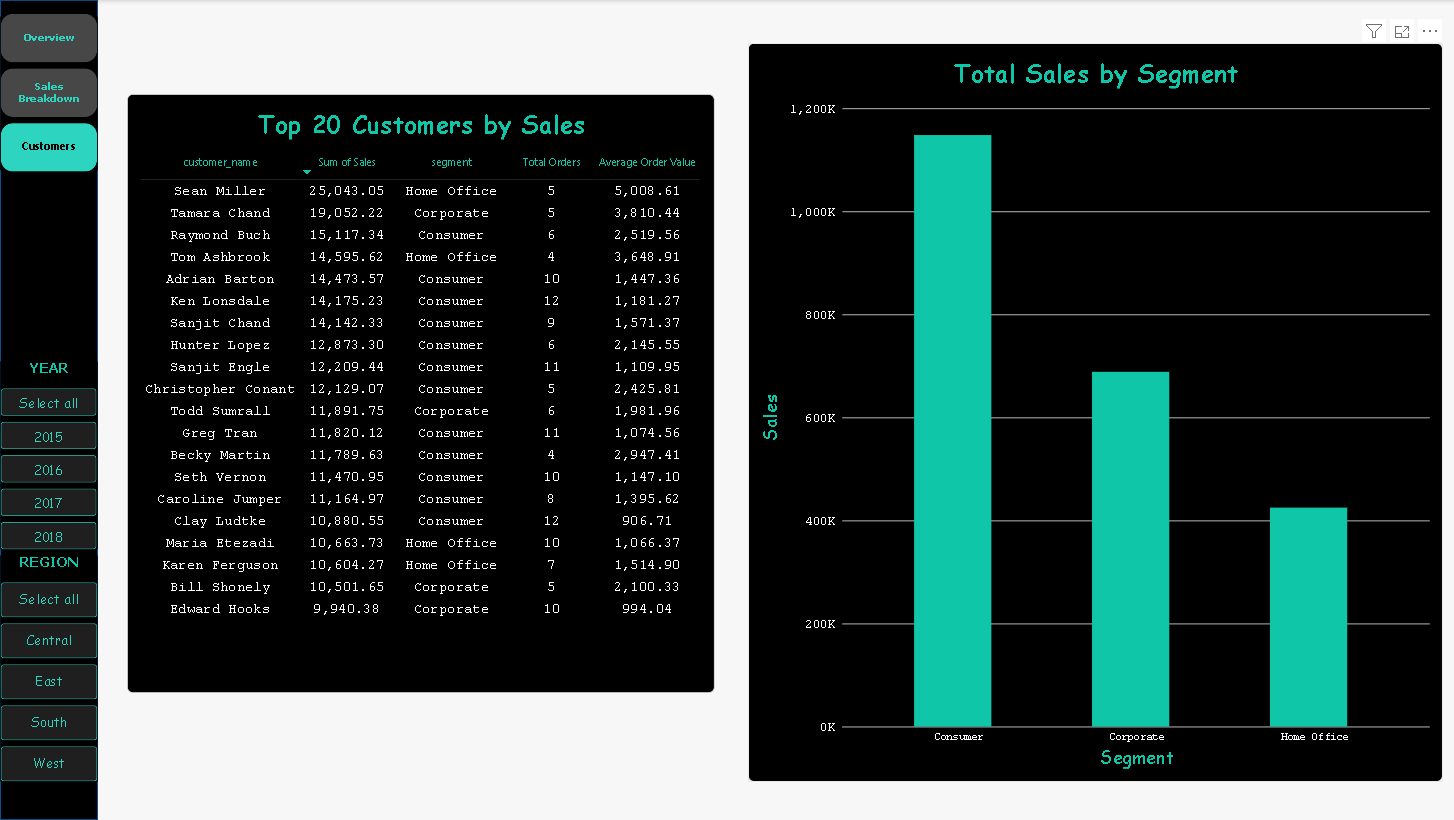

The page's visual inventory and layout, read from the dashboard file:
{"tool":"powerbi","page":{"name":"Customers","canvas":[1920,1080],"ordinal":2},"visuals":[{"type":"columnChart","title":"Total Sales by Segment","fields":{"Category":["superstore_db superstore_sales.segment"],"Y":["Sum(superstore_db superstore_sales.Sales)"]},"box":[985.2,56.6,915.4,973.3],"z":0},{"type":"tableEx","title":"Top 20 Customers by Sales","fields":{"Values":["superstore_db superstore_sales.customer_name","Sum(superstore_db superstore_sales.Sales)","superstore_db superstore_sales.segment","superstore_db superstore_sales.Total Orders","superstore_db superstore_sales.Average Order Value"]},"box":[167.3,123.8,774.4,788.9],"z":1000},{"type":"shape","box":[0,0,129.1,1080],"z":3000},{"type":"pageNavigator","box":[0,17.2,129.1,212],"z":3001},{"type":"advancedSlicerVisual","title":"YEAR","fields":{"Values":["superstore_db superstore_sales.order_date.Variation.Date Hierarchy.Year"]},"box":[0,471.7,128.5,255.7],"z":3002},{"type":"advancedSlicerVisual","title":"REGION","fields":{"Values":["superstore_db superstore_sales.region"]},"box":[0,727.5,129.1,306.9],"z":3003}]}

Visuals, with their boxes on the page's 1920x1080 design canvas (x1, y1, x2, y2). These are canvas units, not pixel positions in the 1454x820 screenshot, which may show the page scaled, cropped or inside an application window:
"Total Sales by Segment" columnChart: box=[985, 57, 1901, 1030]
"Top 20 Customers by Sales" tableEx: box=[167, 124, 942, 913]
shape: box=[0, 0, 129, 1080]
pageNavigator: box=[0, 17, 129, 229]
"YEAR" advancedSlicerVisual: box=[0, 472, 128, 727]
"REGION" advancedSlicerVisual: box=[0, 728, 129, 1034]
